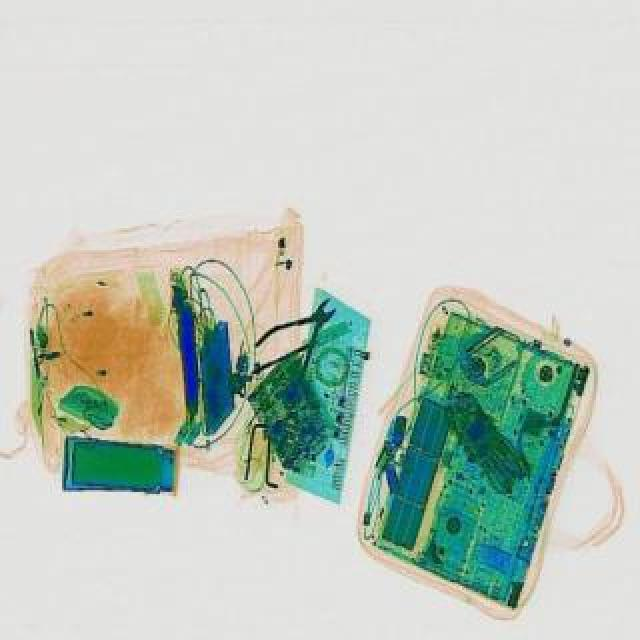wrench: (238, 280, 362, 396)
